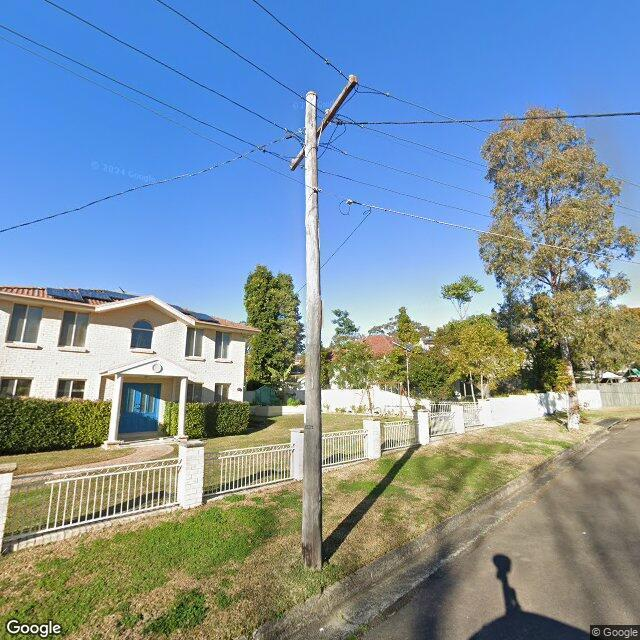crossarm: (290, 77, 361, 174)
timber-pole: (304, 90, 321, 570)
